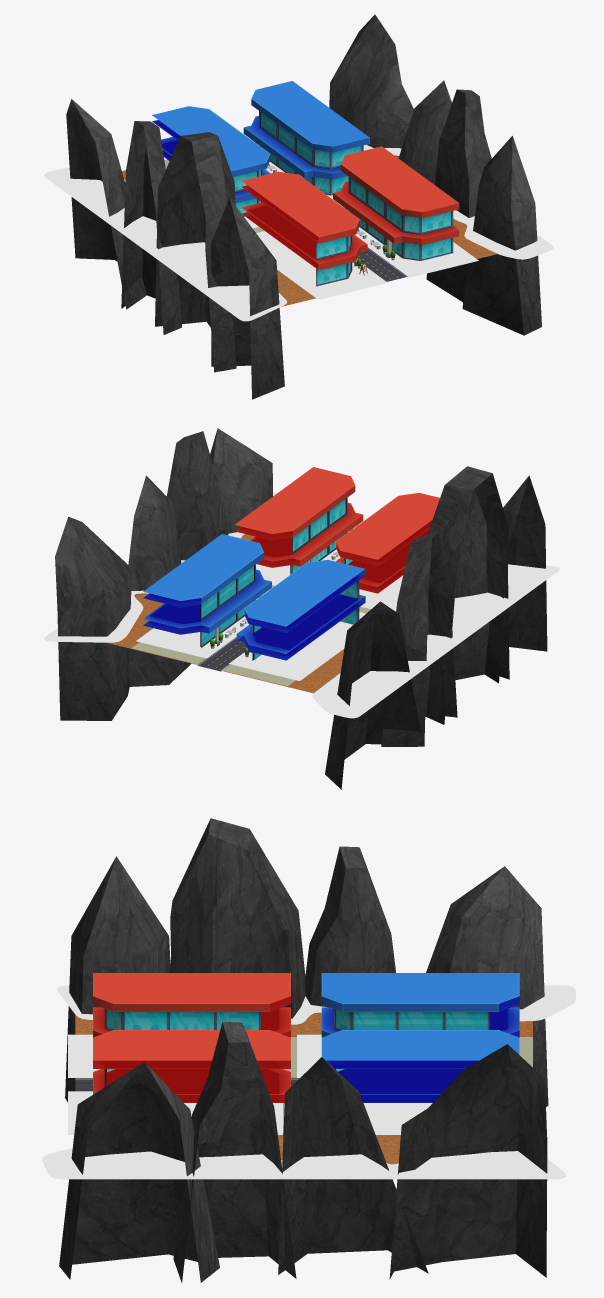
The model's file is Mexico_02.fbx.
The picture shows the model from 3 angles, top to bottom: view 1: azimuth 30°, elevation 25°; view 2: azimuth 150°, elevation 25°; view 3: azimuth 270°, elevation 25°; orthographic projection. The views are drawn at different scales.
Visible parts, largest first — view 1: Mexico_02; view 2: Mexico_02; view 3: Mexico_02.
Boxes of the visible parts, x1,y1,x2,y2 form: Mexico_02: (44, 14, 553, 399); Mexico_02: (44, 428, 559, 789); Mexico_02: (42, 818, 575, 1282).
Bounding box in the file's own units: 22617 × 13384 × 25170.
